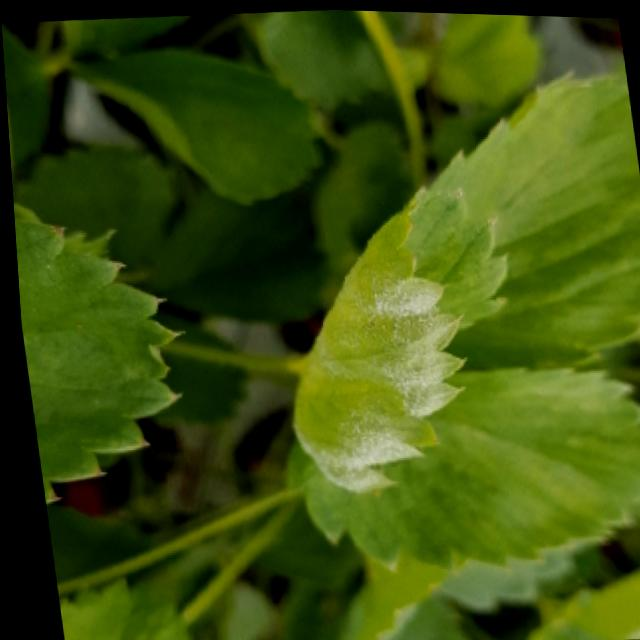Powdery Mildew Leaf: (286, 181, 507, 491)
